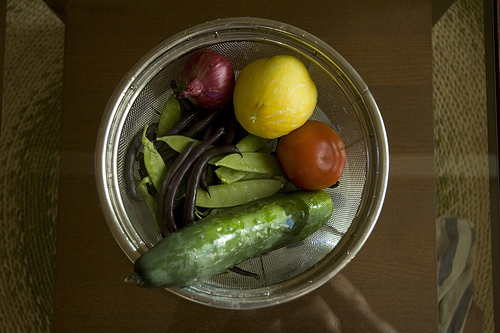cucumber: (122, 189, 334, 290)
